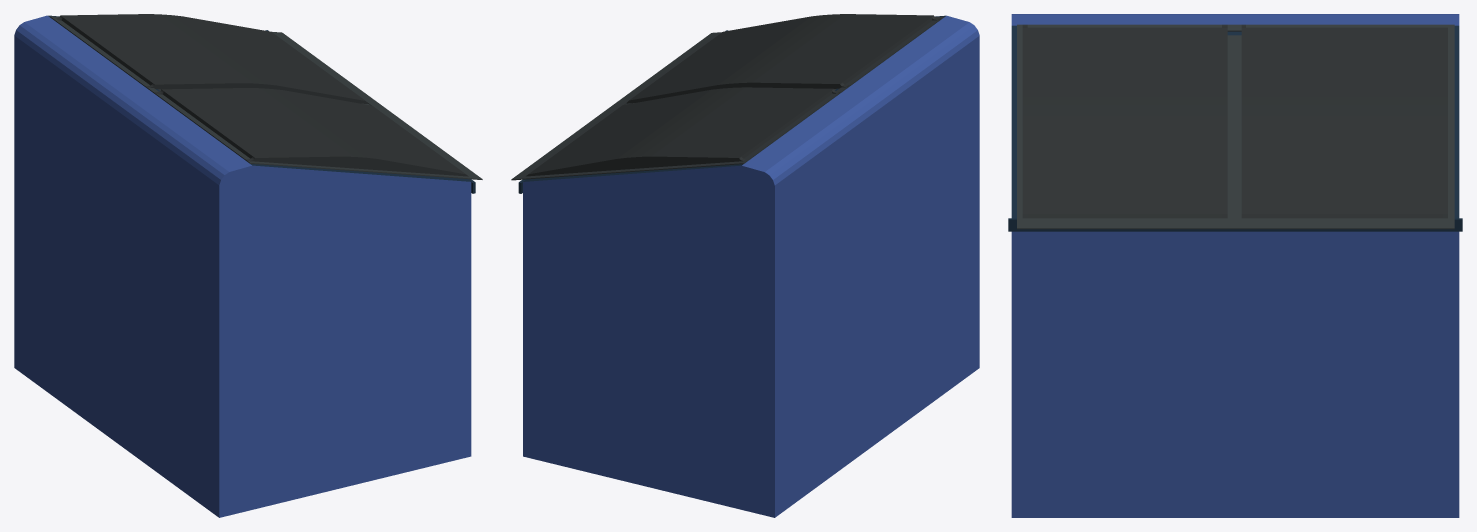
Rendered from contenedorBasura.glb.
3 views of the same model, side by side, from view 1: azimuth 30°, elevation 25°; view 2: azimuth 150°, elevation 25°; view 3: azimuth 270°, elevation 25° (orthographic). The views are drawn at different scales.
Visible parts, largest first — view 1: Cube, Cube.001; view 2: Cube, Cube.001; view 3: Cube, Cube.001.
Part boxes in pixels (bbox=[...]): Cube: bbox=[14, 15, 475, 517]; Cube.001: bbox=[49, 14, 482, 179]; Cube: bbox=[518, 15, 979, 517]; Cube.001: bbox=[511, 14, 943, 180]; Cube: bbox=[1008, 14, 1462, 517]; Cube.001: bbox=[1017, 24, 1454, 229].
Size of the model in its own units: 2.11 by 2.63 by 2.86.
